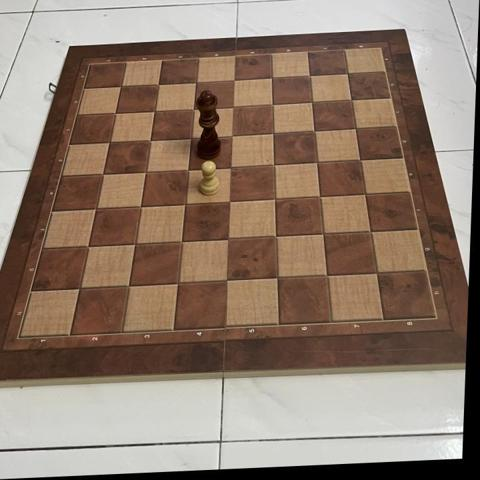xcorner: (172, 233, 190, 251), (339, 65, 356, 83), (301, 67, 318, 85), (263, 69, 280, 87), (224, 72, 242, 89), (263, 96, 280, 114), (224, 98, 241, 116), (184, 101, 202, 118), (305, 123, 323, 140), (264, 125, 281, 143), (223, 127, 240, 145), (351, 152, 368, 170), (308, 154, 325, 172), (136, 163, 153, 181), (265, 191, 283, 208), (221, 193, 238, 211), (314, 226, 331, 244), (266, 229, 284, 246), (219, 231, 237, 248), (79, 238, 97, 255), (367, 265, 384, 283), (267, 270, 285, 287), (218, 272, 235, 290), (71, 279, 88, 297), (187, 74, 204, 91), (149, 76, 166, 93), (111, 78, 128, 95), (343, 92, 360, 109), (303, 94, 320, 111), (145, 103, 162, 120), (106, 105, 123, 122), (347, 121, 364, 138), (182, 130, 199, 147), (141, 132, 158, 149), (100, 134, 117, 151), (265, 157, 282, 174), (222, 159, 239, 176), (179, 161, 196, 178), (94, 166, 111, 183), (356, 187, 373, 204), (311, 189, 328, 206), (176, 196, 193, 213), (131, 198, 148, 215), (87, 200, 104, 217), (361, 224, 378, 241), (126, 236, 143, 253), (317, 268, 334, 285), (169, 275, 186, 292), (120, 277, 137, 294)
